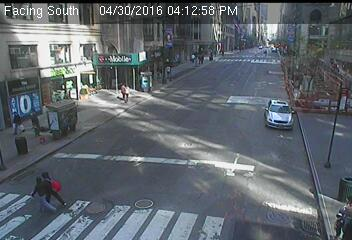pos: (24, 180, 51, 216), (34, 172, 59, 205), (22, 109, 42, 135), (330, 211, 348, 235), (5, 108, 23, 132), (339, 208, 351, 237), (122, 83, 137, 102), (116, 82, 129, 99), (343, 194, 351, 212)
